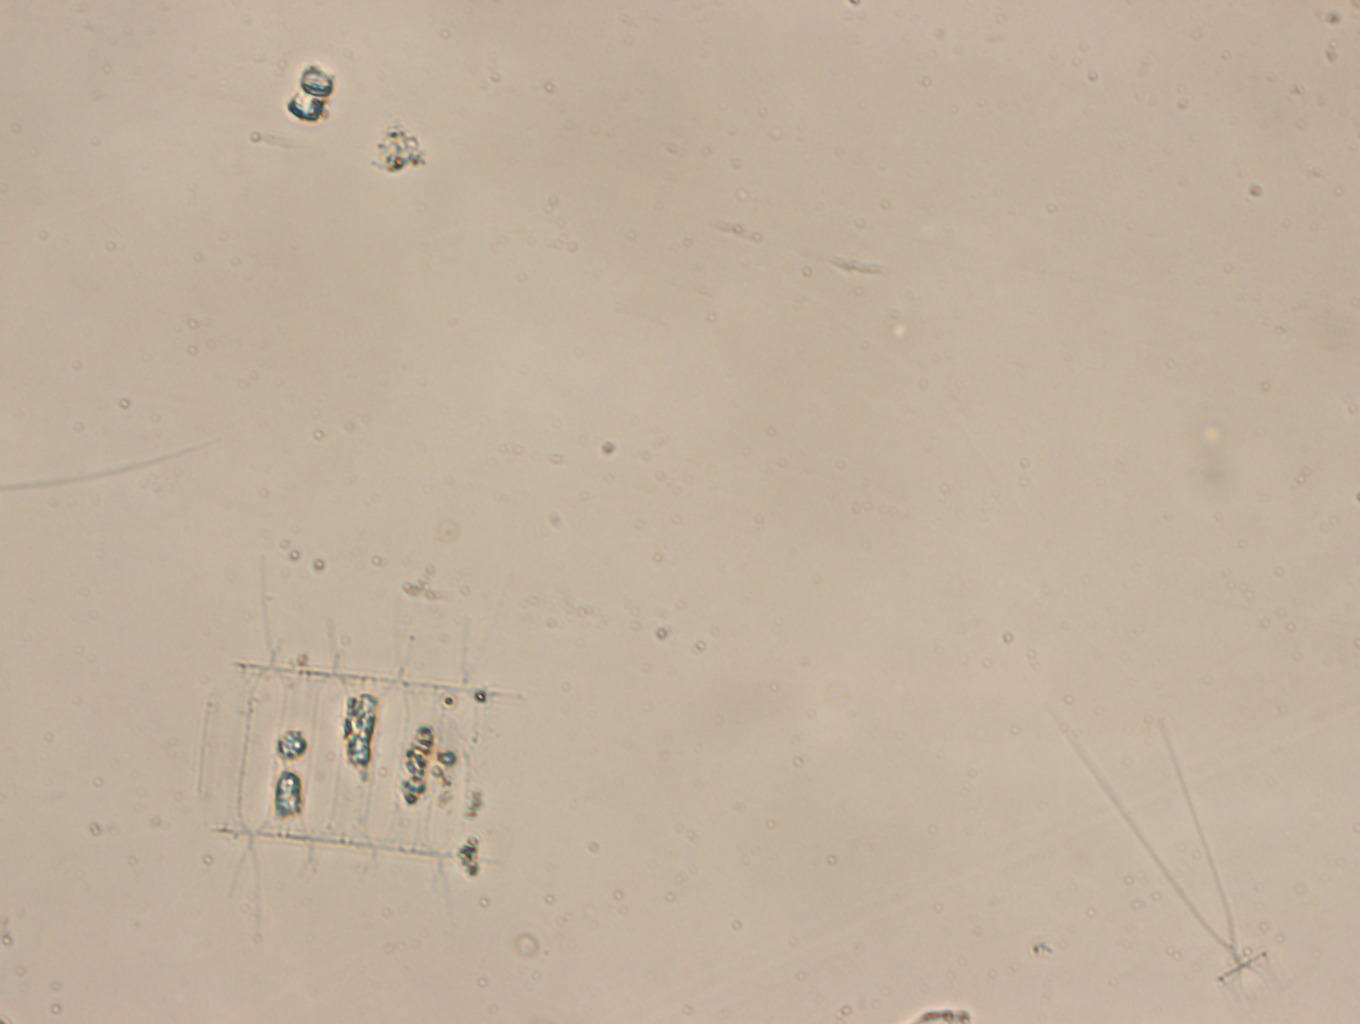chaetoceros: (153, 526, 522, 950)
